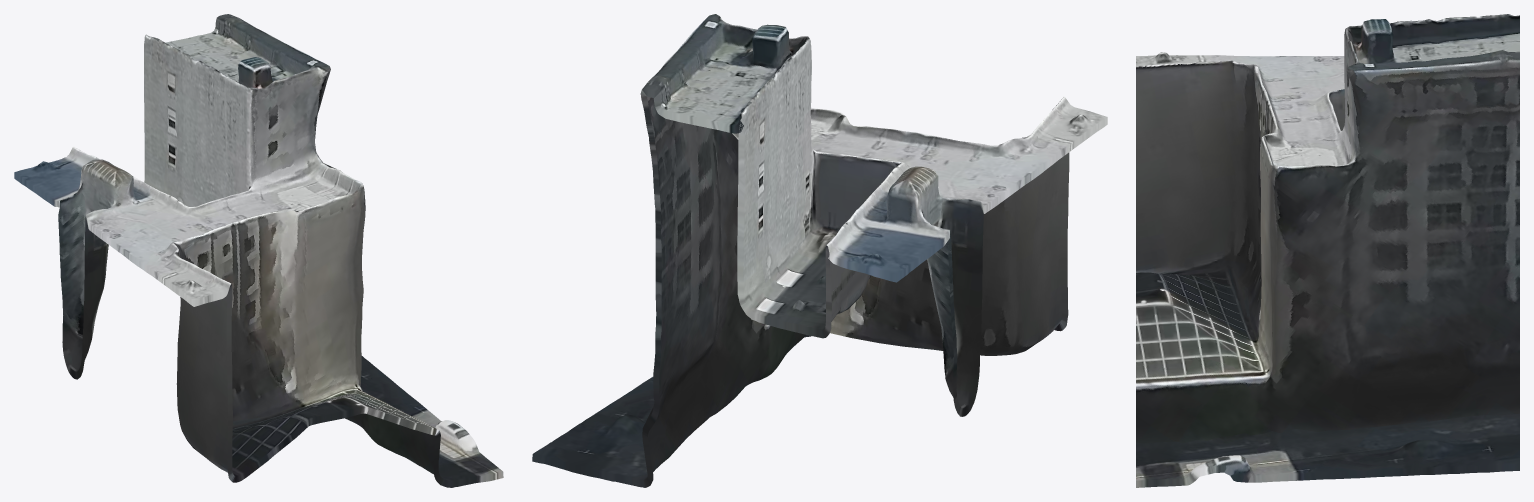
Rendered from z20-167761-405238-h0-yup-uvflip-v3-world.glb.
3 renders of one model, left to right at view 1: azimuth 30°, elevation 25°; view 2: azimuth 150°, elevation 25°; view 3: azimuth 270°, elevation 25°, orthographic. The views are drawn at different scales.
Size of the model in its own units: 30.2 by 34.28 by 30.32.
1 material, 1 textured.
